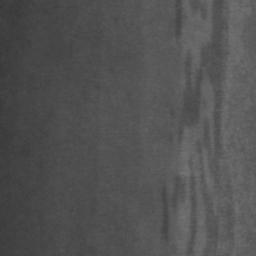Inclusion: (183, 0, 228, 136)
